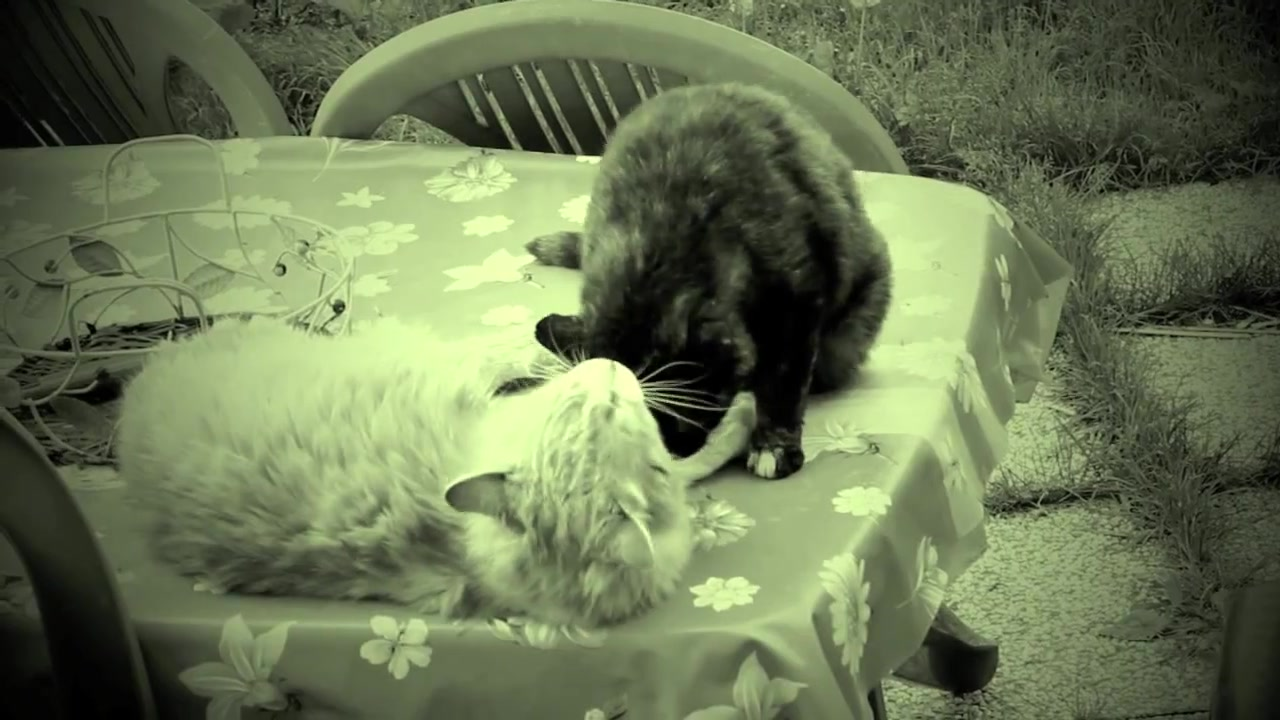cat: (110, 304, 762, 634)
